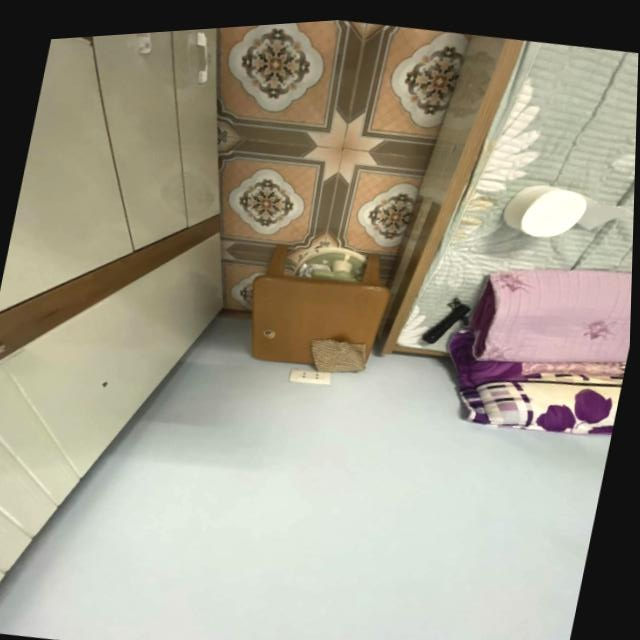outlet: (289, 364, 334, 388)
